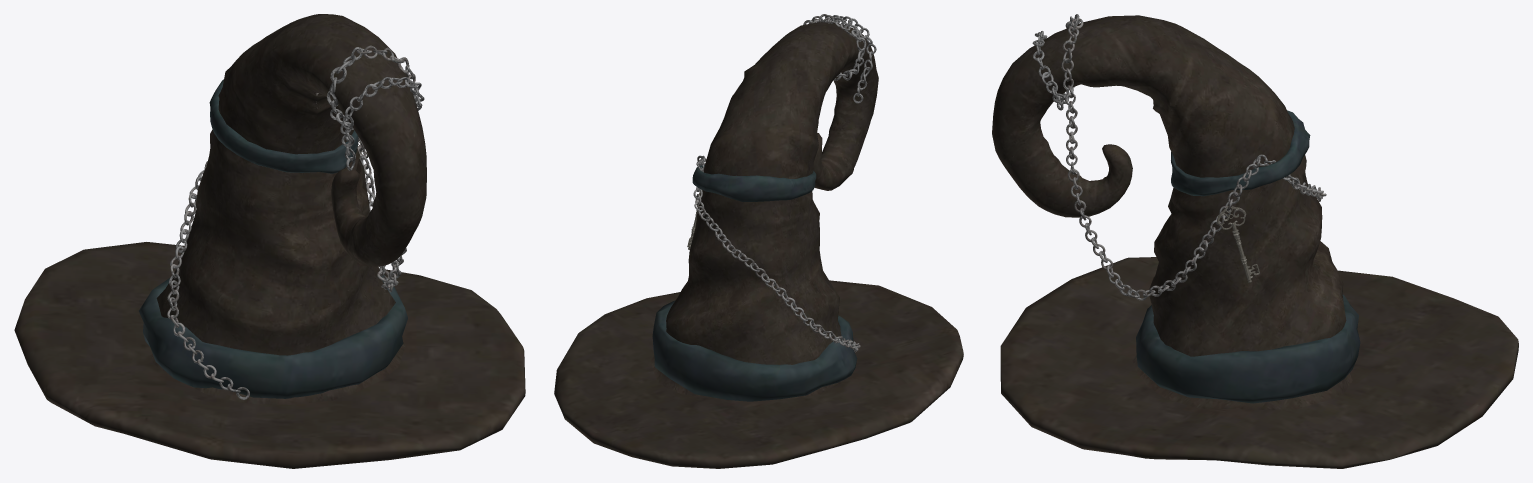
Rendered from wizardHat-transformed.glb.
3 views of the same model, side by side, from view 1: azimuth 30°, elevation 25°; view 2: azimuth 150°, elevation 25°; view 3: azimuth 270°, elevation 25° (orthographic). The views are drawn at different scales.
Visible parts, largest first — view 1: defaultMaterial; view 2: defaultMaterial; view 3: defaultMaterial.
Boxes of the visible parts, x1,y1,x2,y2 form: defaultMaterial: (14, 14, 525, 468); defaultMaterial: (554, 14, 963, 468); defaultMaterial: (992, 14, 1518, 468).
Size of the model in its own units: 1.72 by 1.54 by 2.
Materials: 1 (1 with a texture image).
